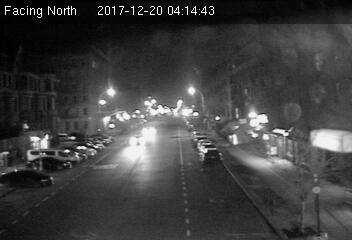car: (127, 132, 149, 146)
